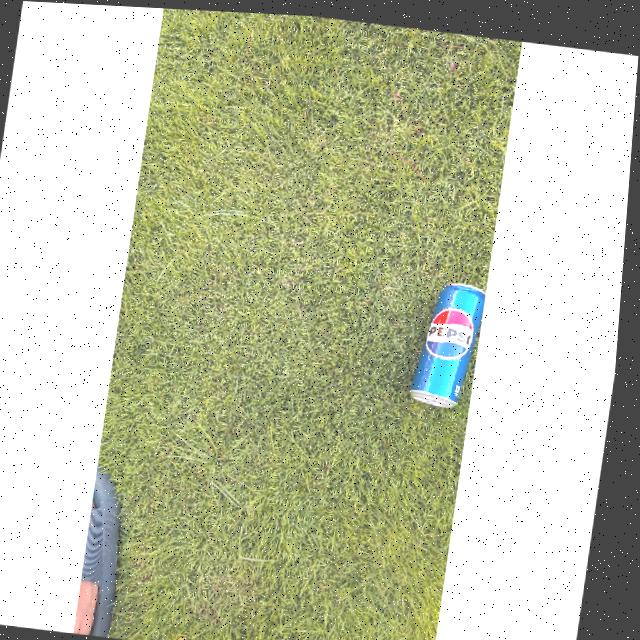Pepsi: (407, 266, 491, 400)
